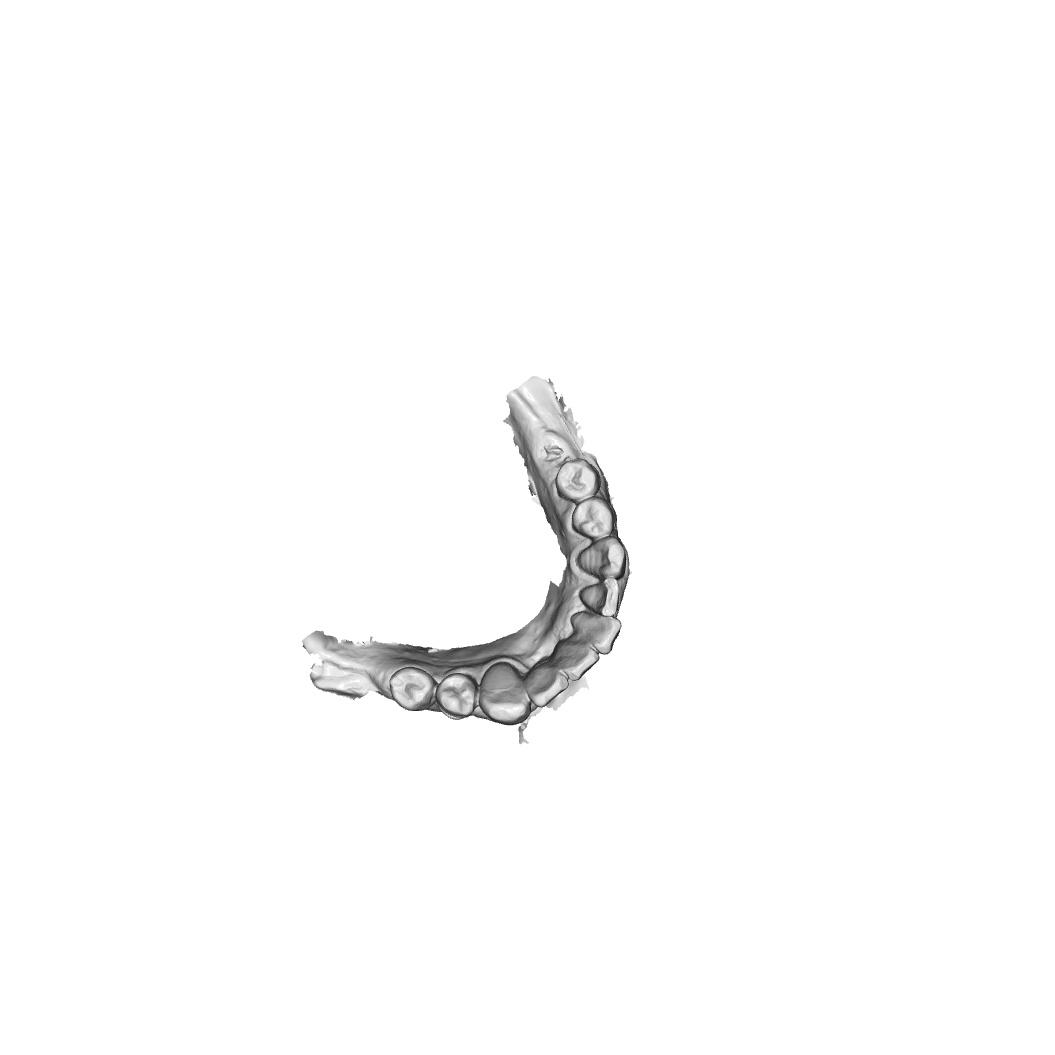canine: (478, 660, 532, 727), (577, 536, 627, 582)
incisor: (569, 610, 622, 656), (523, 659, 570, 708), (551, 636, 601, 682), (578, 577, 620, 618)
premolar: (554, 457, 602, 505), (389, 666, 438, 713), (435, 673, 479, 721), (571, 496, 615, 541)
